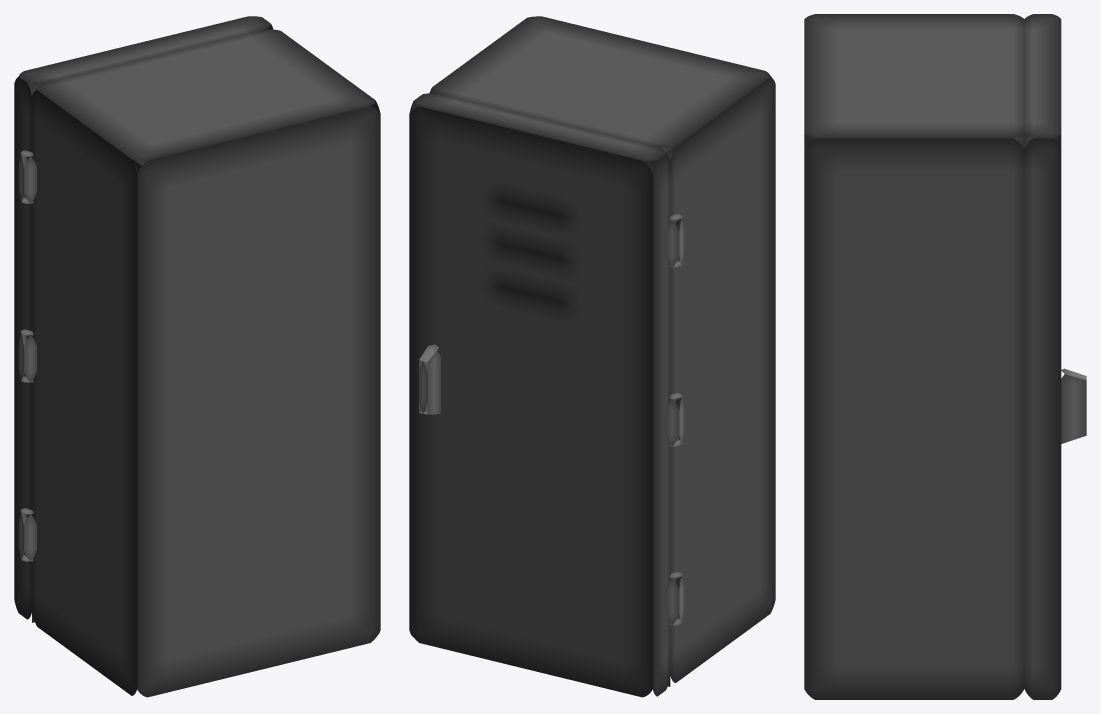
The model's file is Locker.fbx.
3 views of the same model, side by side, from view 1: azimuth 30°, elevation 25°; view 2: azimuth 150°, elevation 25°; view 3: azimuth 270°, elevation 25° (orthographic). The views are drawn at different scales.
Parts seen in each view (by area): view 1: Locker_1, Locker_1.001; view 2: Locker_1.001, Locker_1; view 3: Locker_1, Locker_1.001.
Part boxes in pixels (box(x1,y1,x2,y2)): Locker_1: box(18, 29, 380, 697); Locker_1.001: box(14, 16, 273, 619); Locker_1.001: box(409, 93, 670, 697); Locker_1: box(429, 16, 775, 686); Locker_1: box(804, 14, 1024, 699); Locker_1.001: box(1024, 14, 1086, 699).
Bounding box in the file's own units: 128 × 258 × 118.
